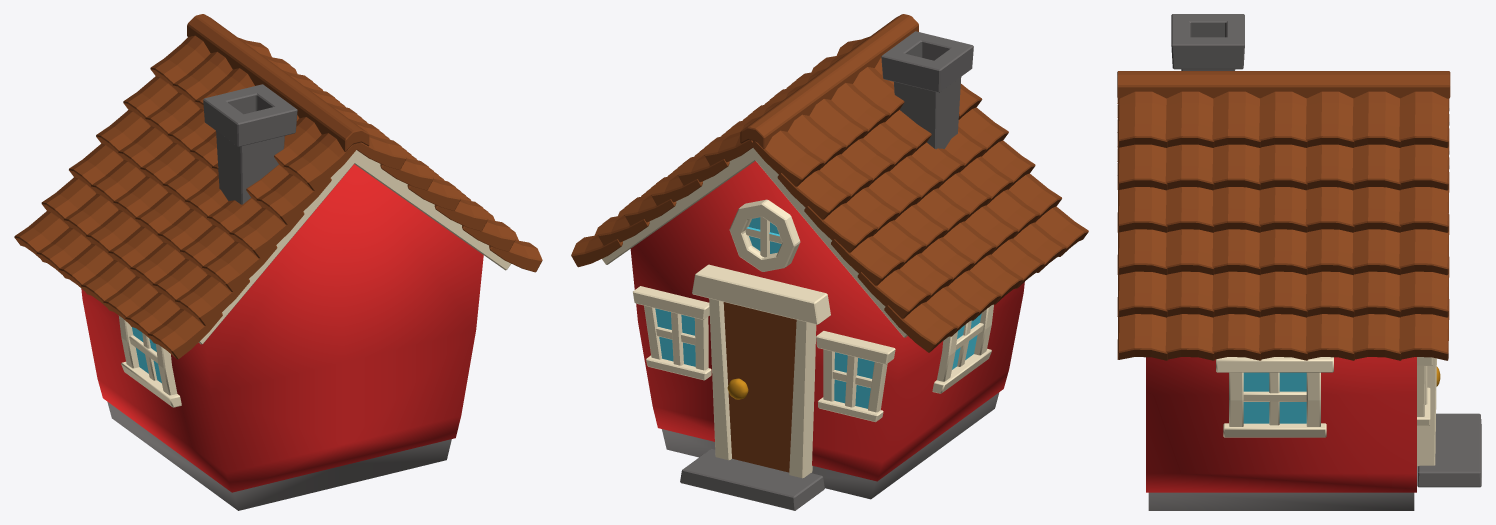
The model's file is Home.glb.
The picture shows the model from 3 angles, left to right: view 1: azimuth 30°, elevation 25°; view 2: azimuth 150°, elevation 25°; view 3: azimuth 270°, elevation 25°; orthographic projection. The views are drawn at different scales.
Parts seen in each view (by area): view 1: Home; view 2: Home; view 3: Home.
Part boxes in pixels (x1,y1,x2,y2): Home: [14, 14, 542, 510]; Home: [571, 14, 1088, 510]; Home: [1117, 14, 1481, 510].
Size of the model in its own units: 3.55 by 3.38 by 2.82.
1 material, 1 textured.
